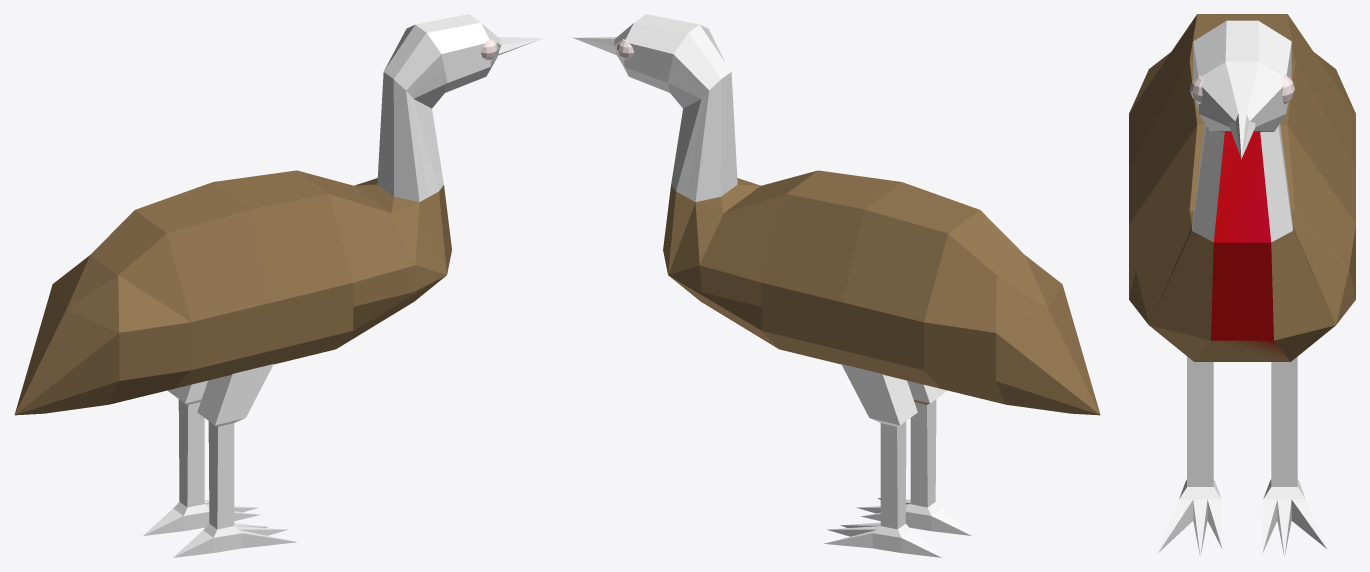
Rendered from emu.fbx.
3 renders of one model, left to right at view 1: azimuth 30°, elevation 25°; view 2: azimuth 150°, elevation 25°; view 3: azimuth 270°, elevation 25°, orthographic. The views are drawn at different scales.
Parts seen in each view (by area): view 1: Emu; view 2: Emu; view 3: Emu.
Part boxes in pixels (left/top/right/bottom): Emu: left=14, top=14, right=542, bottom=557; Emu: left=572, top=14, right=1100, bottom=557; Emu: left=1129, top=14, right=1355, bottom=557.
Bounding box in the file's own units: 246 × 202 × 65.04.
